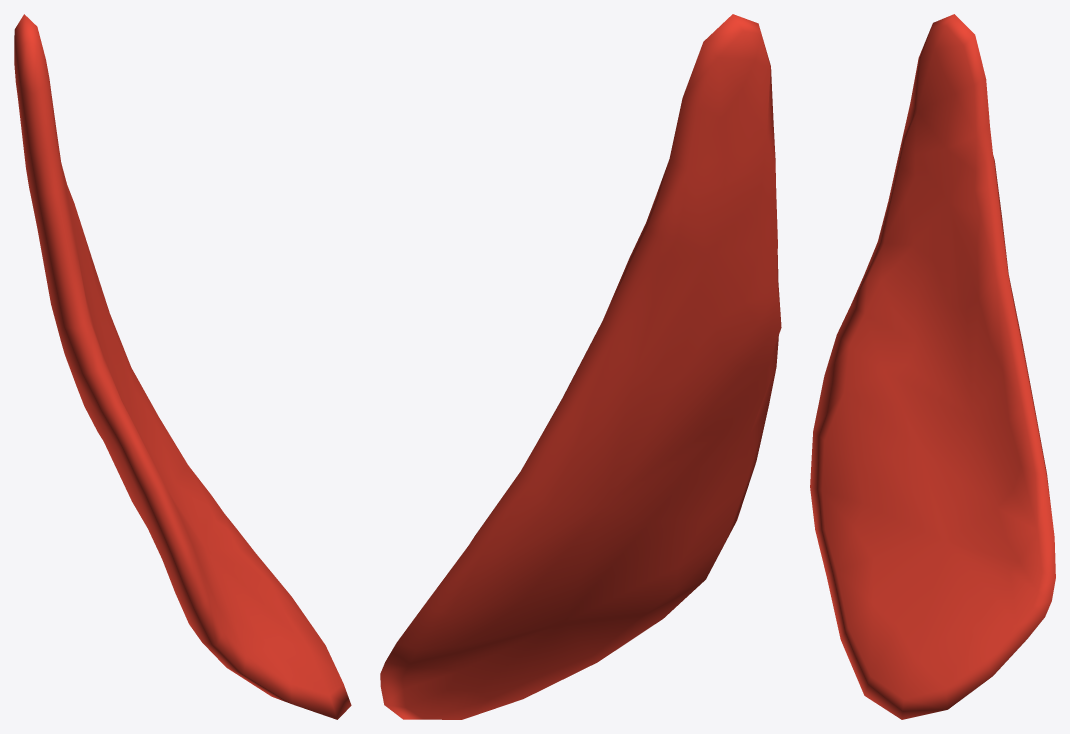
The model's file is Levator_nasolabialis_maxilla_left.glb.
3 renders of one model, left to right at view 1: azimuth 30°, elevation 25°; view 2: azimuth 150°, elevation 25°; view 3: azimuth 270°, elevation 25°, orthographic. The views are drawn at different scales.
Parts seen in each view (by area): view 1: Levator_nasolabialis_on_maxilla.l_Generated_Mesh_From_X3D.77; view 2: Levator_nasolabialis_on_maxilla.l_Generated_Mesh_From_X3D.77; view 3: Levator_nasolabialis_on_maxilla.l_Generated_Mesh_From_X3D.77.
Boxes of the visible parts, left/top/right/bottom form: Levator_nasolabialis_on_maxilla.l_Generated_Mesh_From_X3D.77: left=14, top=14, right=351, bottom=719; Levator_nasolabialis_on_maxilla.l_Generated_Mesh_From_X3D.77: left=380, top=14, right=781, bottom=719; Levator_nasolabialis_on_maxilla.l_Generated_Mesh_From_X3D.77: left=810, top=14, right=1055, bottom=719.
Bounding box in the file's own units: 0.00516 × 0.0113 × 0.00425.
